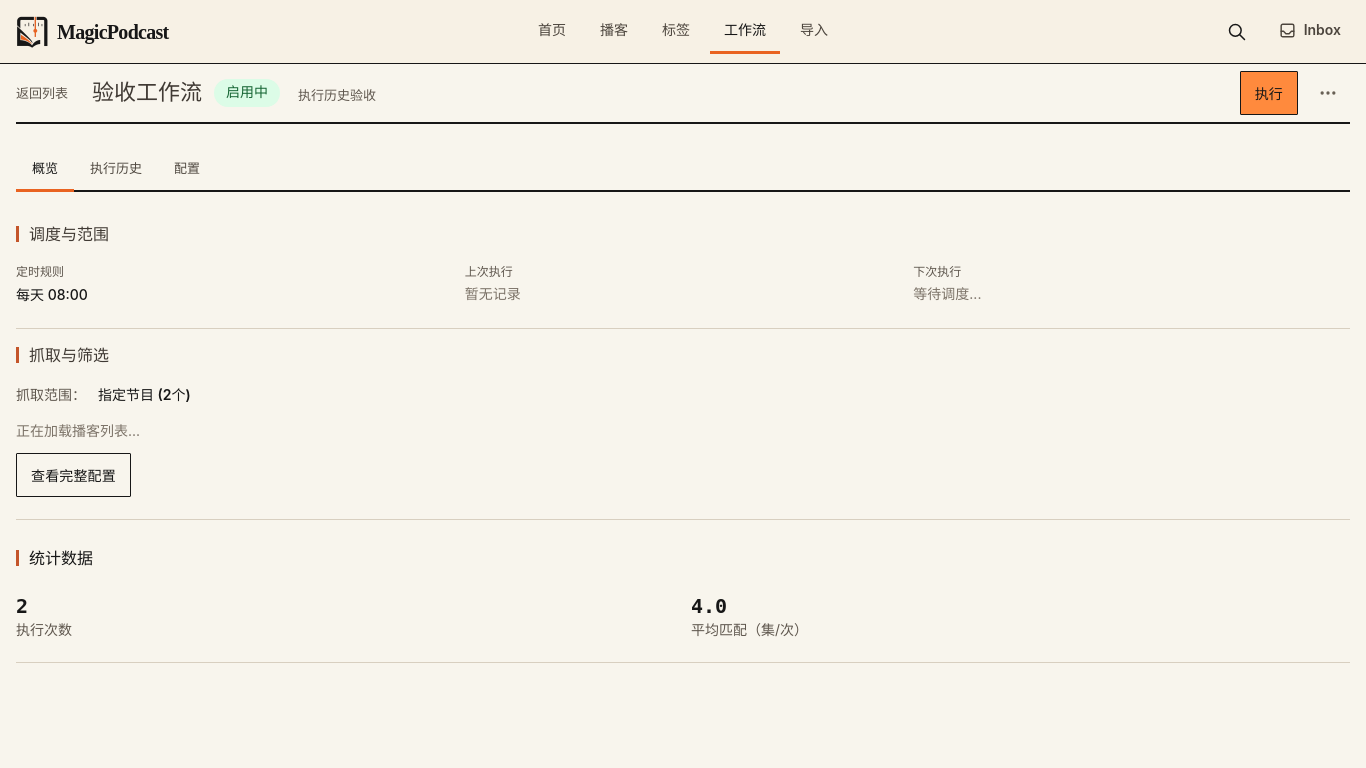
Scenario: 工作流执行历史可见等待验收 (#34) › 补偿启动后立即刷新列表并进入活动任务轮询
Click the tab "执行历史": (116, 170) [74,148,158,192]
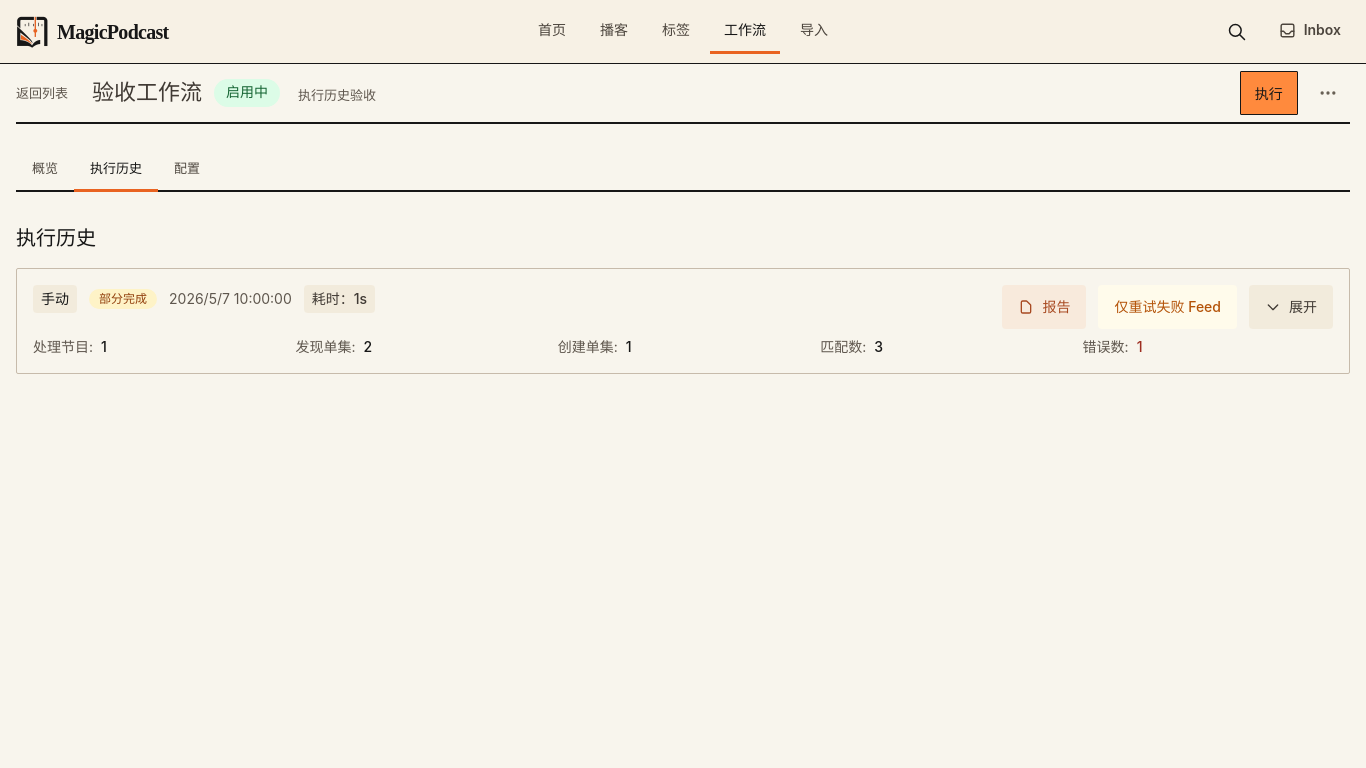
Now the button "仅重试失败 Feed" is shown
Click the button "仅重试失败 Feed": (1168, 307) [1098,285,1237,329]
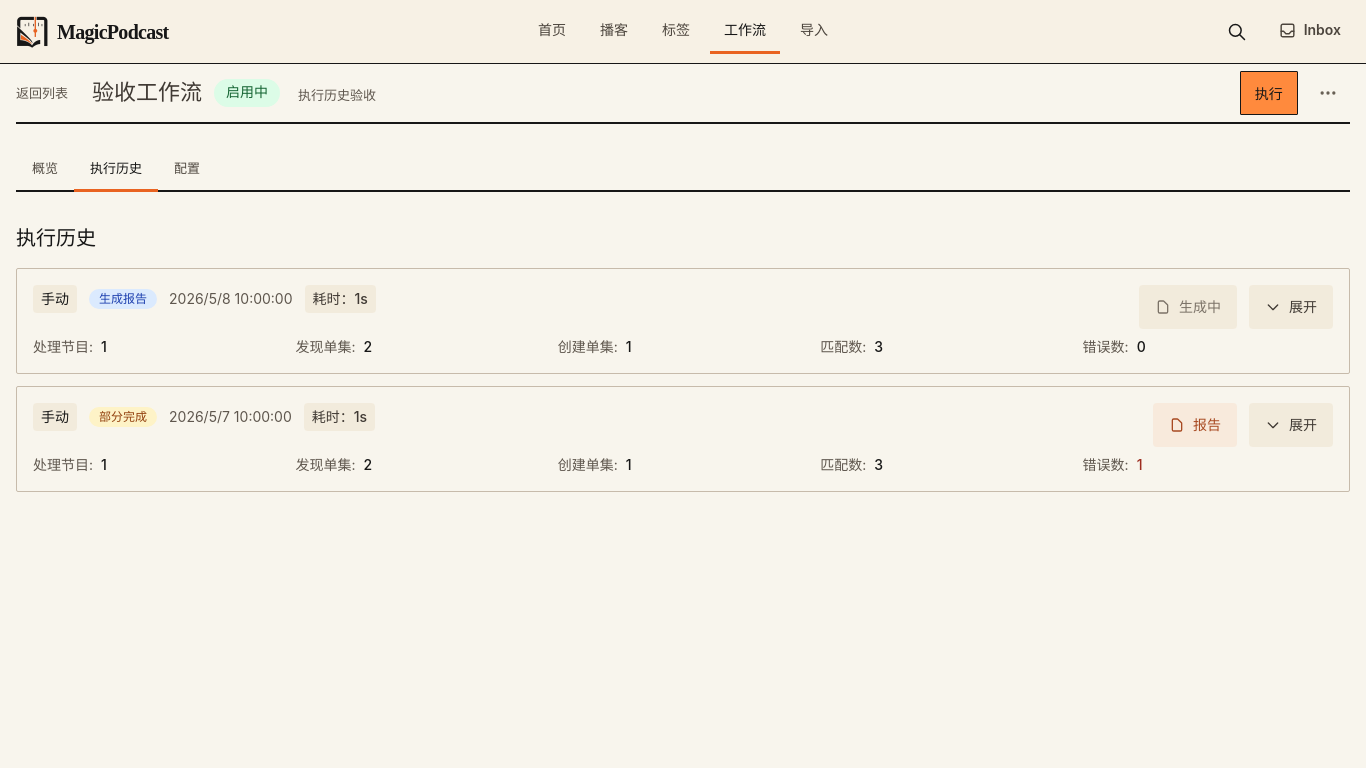
Now the button "仅重试失败 Feed" is gone
